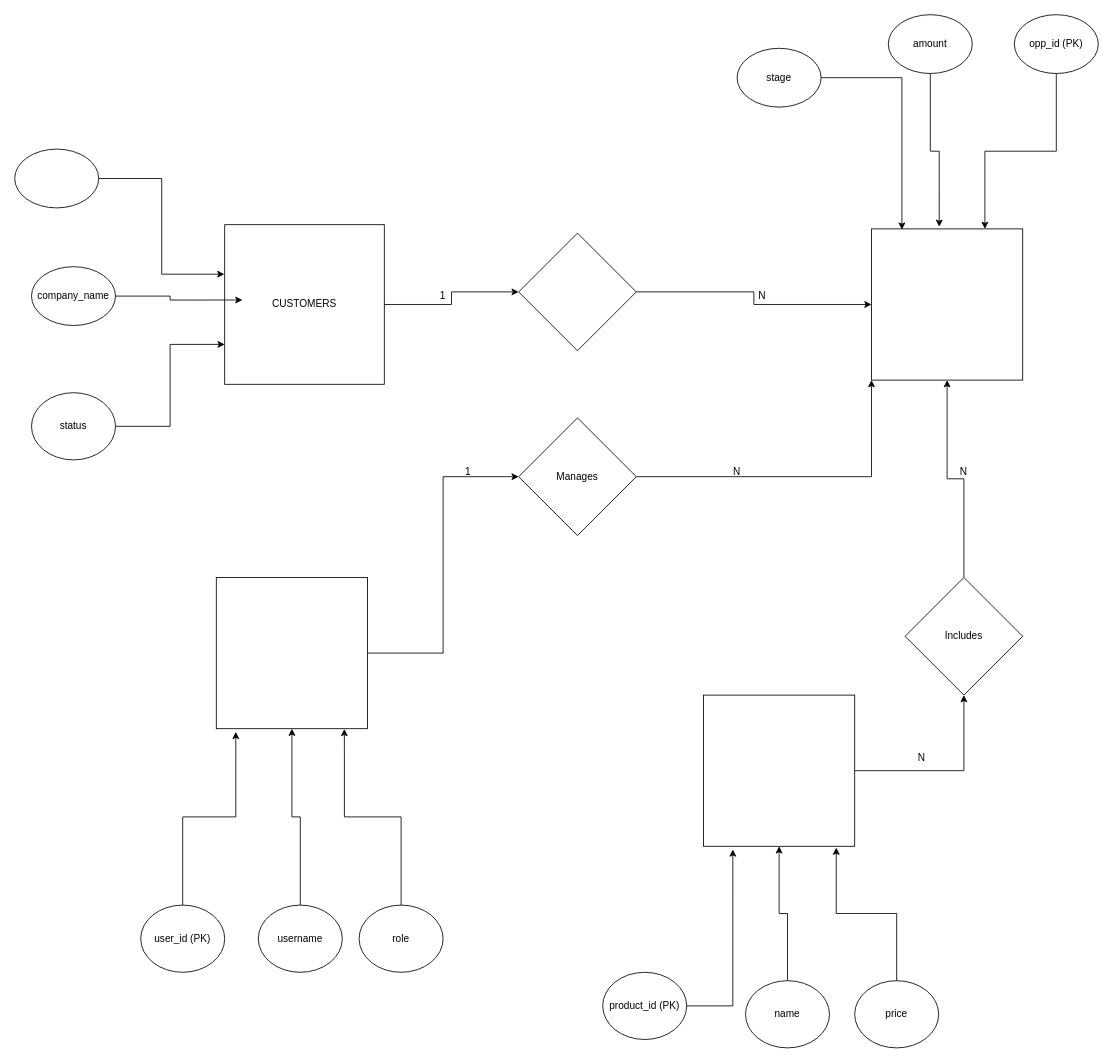
The diagram is 1113 pixels wide and 1063 high, and some of its shapes have lost their labels. Each missing label, with the box of its shape:
customer_id (PK): (14, 148, 99, 208)
Generates: (518, 232, 636, 351)
OPPORTUNITIES: (871, 228, 1023, 380)
PRODUCTS: (703, 694, 855, 846)
USERS: (215, 577, 368, 729)
